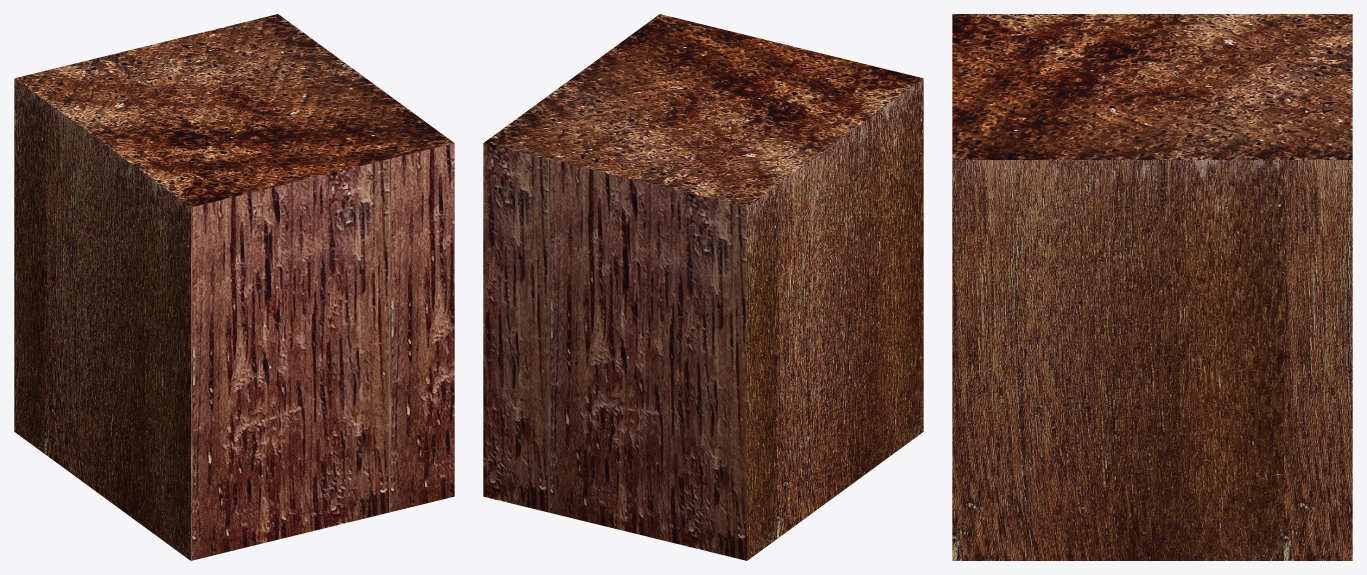
File: damar_minyak.glb
3 views of the same model, side by side, from view 1: azimuth 30°, elevation 25°; view 2: azimuth 150°, elevation 25°; view 3: azimuth 270°, elevation 25° (orthographic). The views are drawn at different scales.
Parts seen in each view (by area): view 1: BothSides014_1, BothSides014_2, BothSides014; view 2: BothSides014_1, BothSides014_2, BothSides014; view 3: BothSides014_2, BothSides014.
Boxes of the visible parts, left/top/right/bottom form: BothSides014_1: left=191, top=143, right=454, bottom=560; BothSides014_2: left=14, top=78, right=190, bottom=560; BothSides014: left=15, top=14, right=453, bottom=207; BothSides014_1: left=483, top=143, right=746, bottom=560; BothSides014_2: left=747, top=78, right=923, bottom=560; BothSides014: left=484, top=14, right=922, bottom=207; BothSides014_2: left=952, top=160, right=1352, bottom=560; BothSides014: left=952, top=14, right=1352, bottom=159.
Size of the model in its own units: 1.77 by 2.27 by 2.05.
3 materials, 3 textured.
